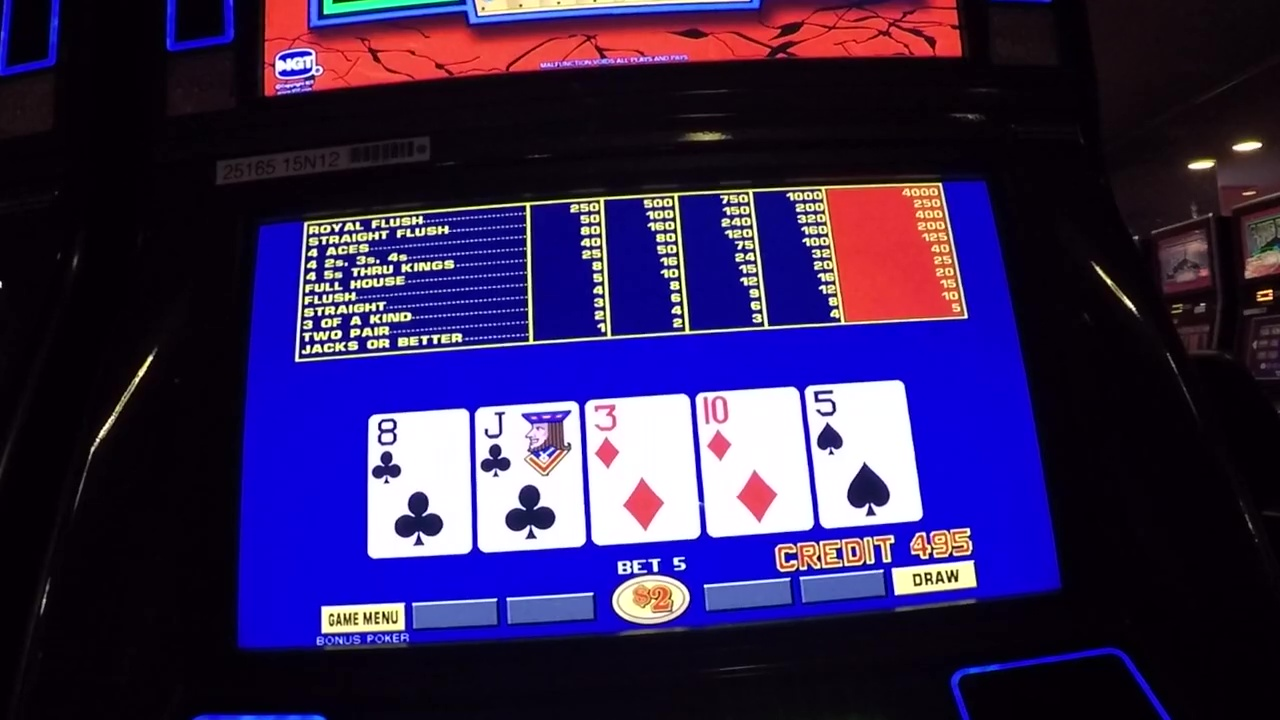C8: (370, 413, 468, 484)
CJ: (478, 409, 577, 479)
D3: (590, 402, 690, 472)
DT: (701, 392, 798, 460)
S5: (815, 387, 904, 458)
